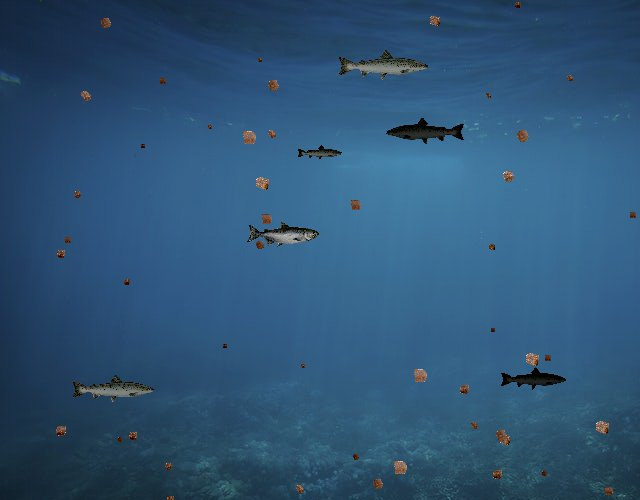Fish: (337, 49, 431, 83), (70, 373, 156, 404), (386, 116, 467, 145), (246, 222, 319, 248), (499, 367, 567, 391), (297, 144, 344, 161)
Pellet: (510, 123, 536, 149), (496, 164, 521, 189), (75, 85, 96, 107), (484, 240, 498, 254), (538, 467, 551, 480), (510, 0, 524, 12), (204, 122, 214, 132)
